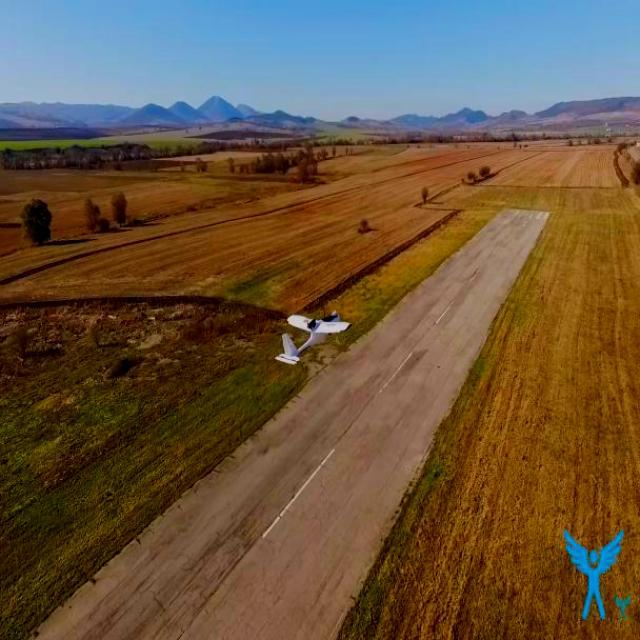iha: (306, 324, 322, 326)
